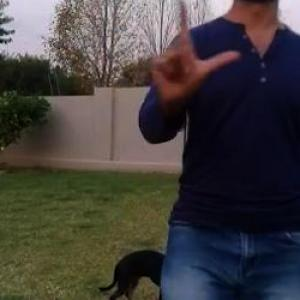land_hand: (146, 0, 242, 106)
